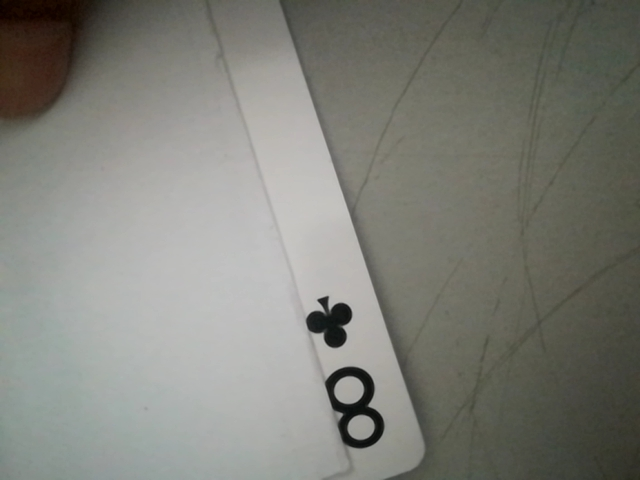mh 8: (298, 287, 405, 461)
